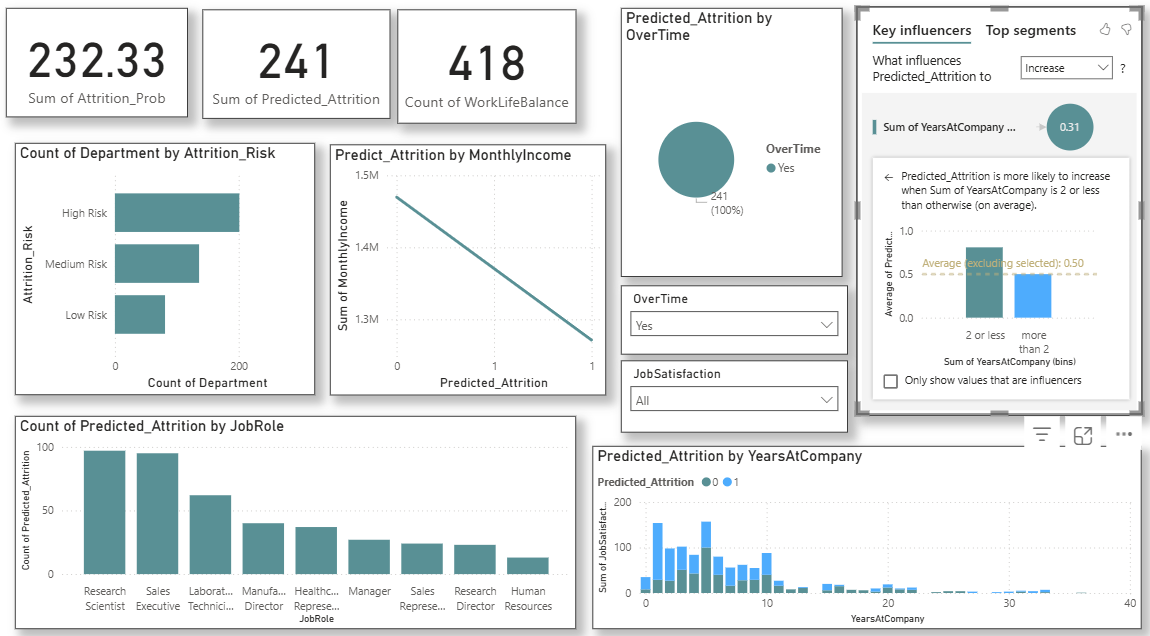

What the dashboard file says about the page in this screenshot:
{"tool":"powerbi","page":{"name":"Page 1","canvas":[1280,720],"ordinal":0},"visuals":[{"type":"card","fields":{"Values":["Sum(employee_attrition.Attrition_Prob)"]},"box":[6.3,12.6,202.1,121.6],"z":0},{"type":"card","fields":{"Values":["Sum(employee_attrition.Predicted_Attrition)"]},"box":[224.2,14.2,208.4,121.6],"z":1},{"type":"card","fields":{"Values":["CountNonNull(employee_attrition.WorkLifeBalance)"]},"box":[441.7,15,198.3,126.7],"z":2},{"type":"barChart","fields":{"Y":["CountNonNull(employee_attrition.Department)"],"Category":["employee_attrition.Attrition_Risk"]},"box":[16.7,163.3,333.3,280],"z":3},{"type":"clusteredColumnChart","fields":{"Y":["CountNonNull(employee_attrition.Predicted_Attrition)"],"Category":["employee_attrition.JobRole"]},"box":[16.7,466.7,623.3,236.7],"z":4},{"type":"pieChart","title":"Predicted_Attrition by OverTime","fields":{"Category":["employee_attrition.OverTime"],"Y":["Sum(employee_attrition.Predicted_Attrition)"]},"box":[690,12.6,246.3,298.4],"z":5},{"type":"lineStackedColumnComboChart","title":"Predicted_Attrition by YearsAtCompany","fields":{"Category":["employee_attrition.YearsAtCompany"],"Series":["employee_attrition.Predicted_Attrition"],"Y":["Sum(employee_attrition.JobSatisfaction)"]},"box":[658.3,500,610,203.3],"z":6},{"type":"lineChart","title":"Predict_Attrition by MonthlyIncome","fields":{"Y":["Sum(employee_attrition.MonthlyIncome)"],"Category":["employee_attrition.Predicted_Attrition"]},"box":[366.7,165,306.7,278.3],"z":7},{"type":"slicer","fields":{"Values":["employee_attrition.OverTime"]},"box":[690,321.7,251.7,76.7],"z":8},{"type":"slicer","fields":{"Values":["employee_attrition.JobSatisfaction"]},"box":[690,405,251.7,80],"z":9},{"type":"keyDriversVisual","fields":{"Target":["employee_attrition.Predicted_Attrition"],"ExplainBy":["Sum(employee_attrition.JobSatisfaction)","Sum(employee_attrition.YearsAtCompany)"]},"box":[952.1,11.1,317.4,454.7],"z":10}]}

Visuals, with their boxes in screenshot pixels (x1, y1, x2, y2), scaled from the page's 1280x720 canvas onto the 1150x636 screenshot:
card - Sum(employee_attrition.Attrition_Prob): Rect(6, 11, 187, 119)
card - Sum(employee_attrition.Predicted_Attrition): Rect(201, 13, 389, 120)
card - CountNonNull(employee_attrition.WorkLifeBalance): Rect(397, 13, 575, 125)
barChart - CountNonNull(employee_attrition.Department) x employee_attrition.Attrition_Risk: Rect(15, 144, 314, 392)
clusteredColumnChart - CountNonNull(employee_attrition.Predicted_Attrition) x employee_attrition.JobRole: Rect(15, 412, 575, 621)
"Predicted_Attrition by OverTime" pieChart: Rect(620, 11, 841, 275)
"Predicted_Attrition by YearsAtCompany" lineStackedColumnComboChart: Rect(591, 442, 1139, 621)
"Predict_Attrition by MonthlyIncome" lineChart: Rect(329, 146, 605, 392)
slicer - employee_attrition.OverTime: Rect(620, 284, 846, 352)
slicer - employee_attrition.JobSatisfaction: Rect(620, 358, 846, 428)
keyDriversVisual - employee_attrition.Predicted_Attrition x Sum(employee_attrition.JobSatisfaction): Rect(855, 10, 1141, 411)
